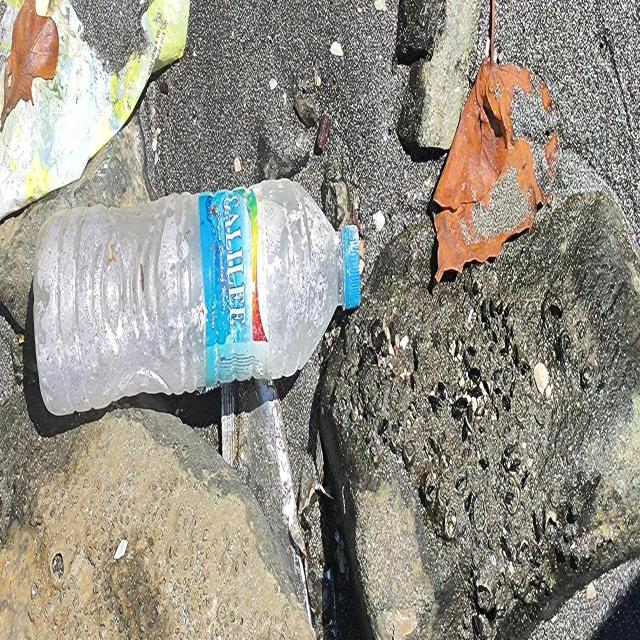plastic_waste: (34, 175, 362, 415)
